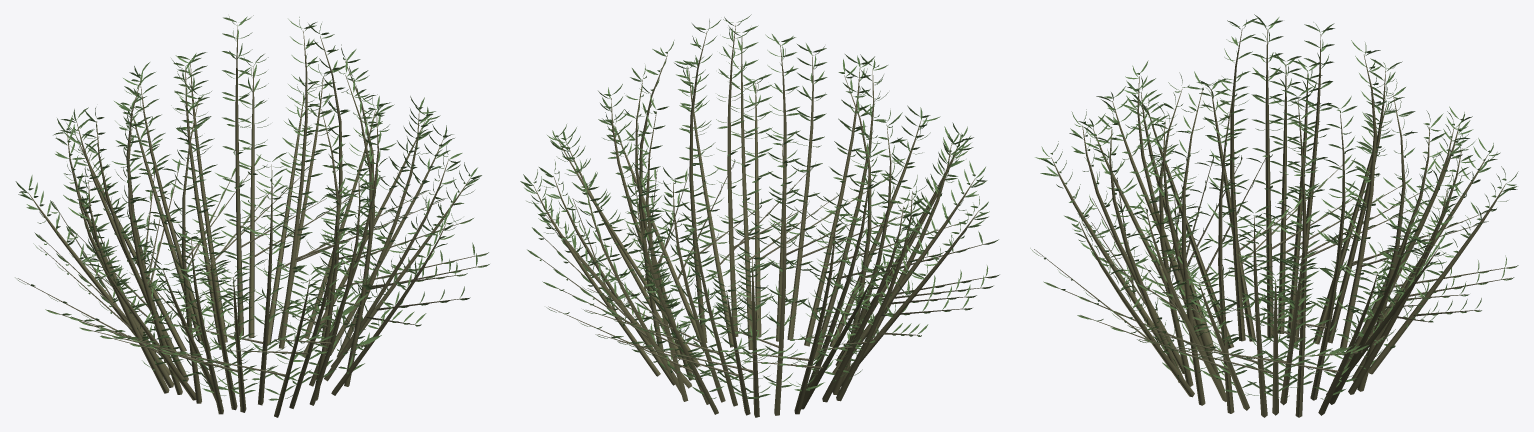
File: salvia-rosmarinus-light.glb
3 renders of one model, left to right at view 1: azimuth 30°, elevation 25°; view 2: azimuth 150°, elevation 25°; view 3: azimuth 270°, elevation 25°, orthographic.
Visible parts, largest first — view 1: salvia-rosmarinus connected low branching, salvia-rosmarinus dense natural leaf mound; view 2: salvia-rosmarinus connected low branching, salvia-rosmarinus dense natural leaf mound; view 3: salvia-rosmarinus connected low branching, salvia-rosmarinus dense natural leaf mound.
Part boxes in pixels (x1,y1,x2,y2): salvia-rosmarinus connected low branching: (17, 25, 486, 417); salvia-rosmarinus dense natural leaf mound: (15, 15, 489, 400); salvia-rosmarinus connected low branching: (531, 25, 995, 417); salvia-rosmarinus dense natural leaf mound: (520, 14, 999, 398); salvia-rosmarinus connected low branching: (1034, 28, 1515, 417); salvia-rosmarinus dense natural leaf mound: (1030, 14, 1518, 399).
Bounding box in the file's own units: 0.8927 × 0.6603 × 0.8906.
